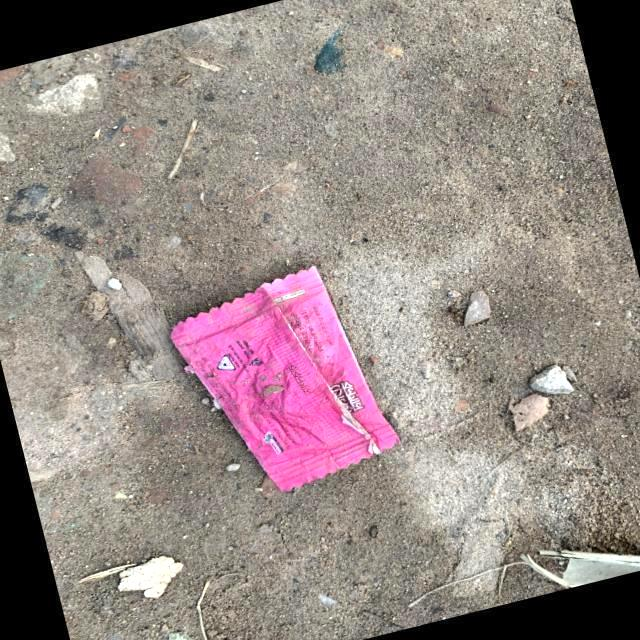packet: (190, 263, 394, 500)
